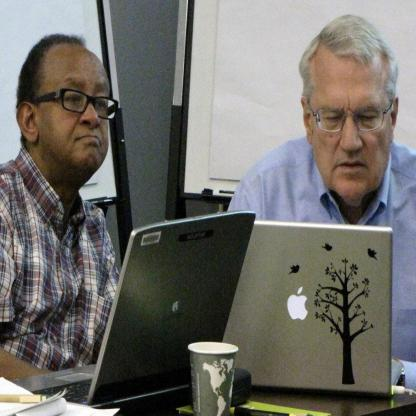board: (13, 213, 255, 408), (226, 228, 406, 399), (188, 341, 238, 416)
